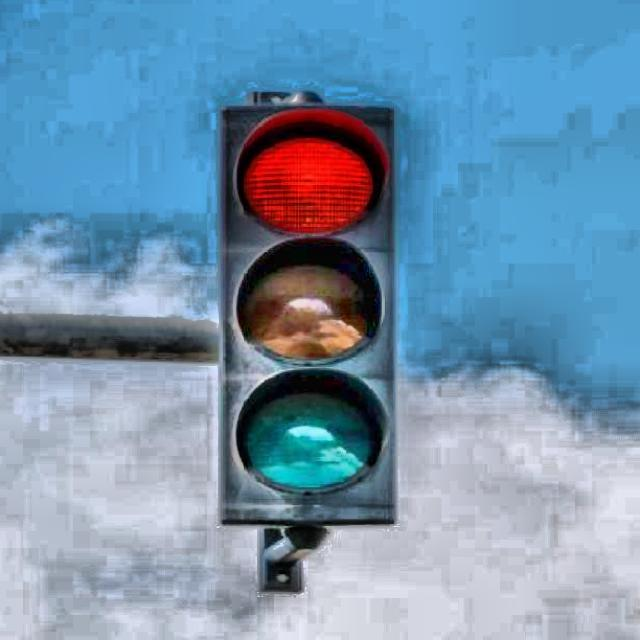red: (214, 92, 398, 523)
